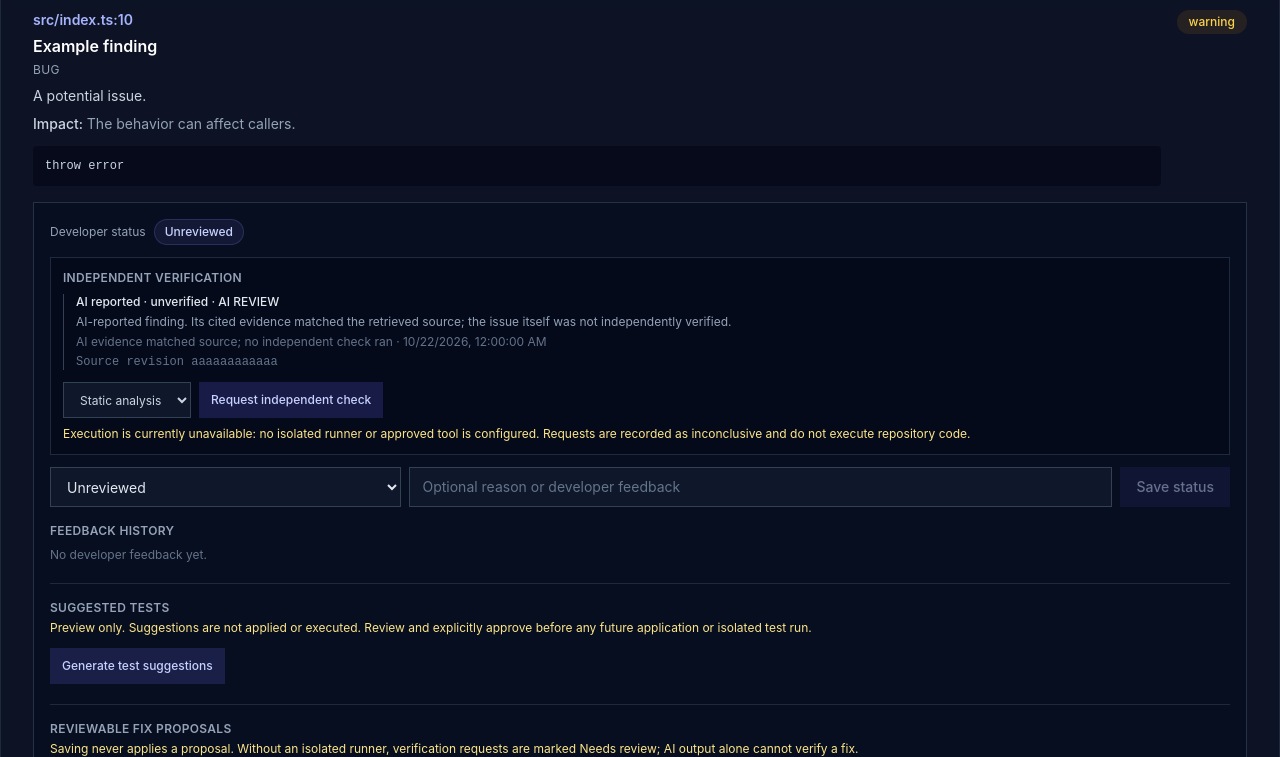
Test: finding lifecycle UI › requests only an approved profile and displays the inconclusive no-runner result
(page scrolled)
Click the button "Request independent check" at (291,400), box [199,382,383,418]
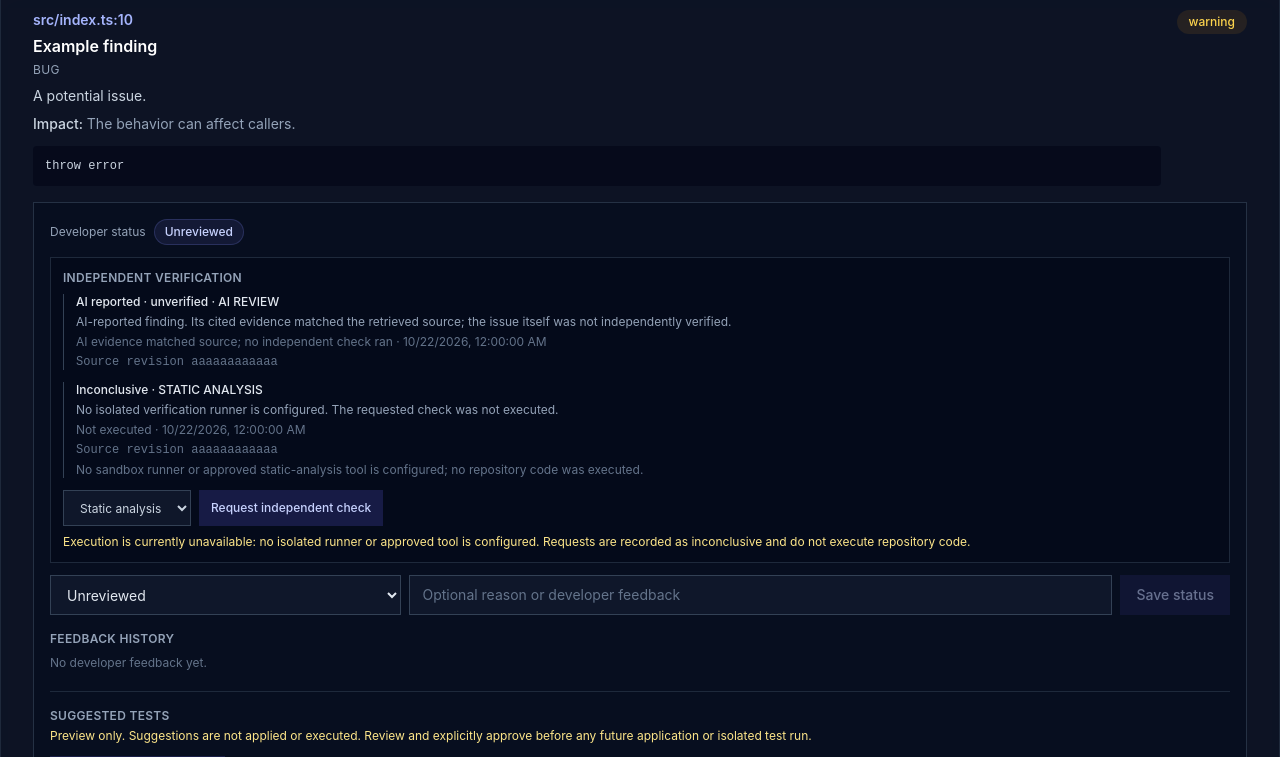
Expected: the text "Inconclusive" is shown, [76,382,148,397]
Result: the text "Not executed" is shown at [76,402,559,417]
Result: the text "no repository code was executed" is shown at [76,462,643,477]
